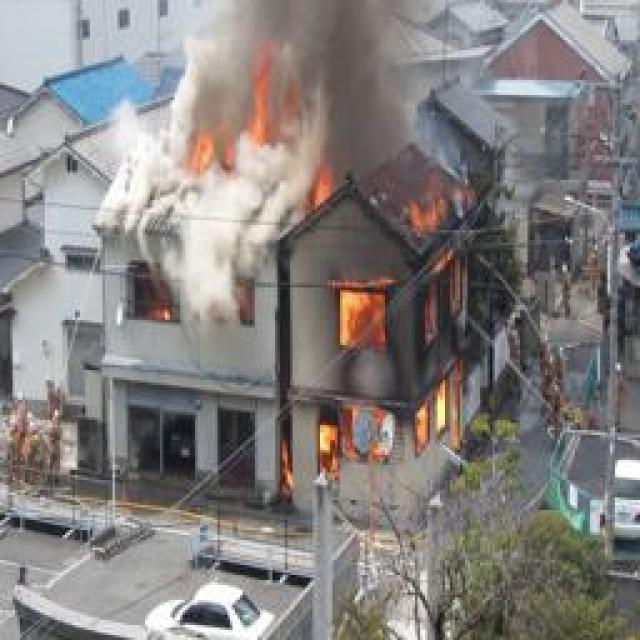Fire: (311, 169, 467, 486), (188, 75, 285, 169)
